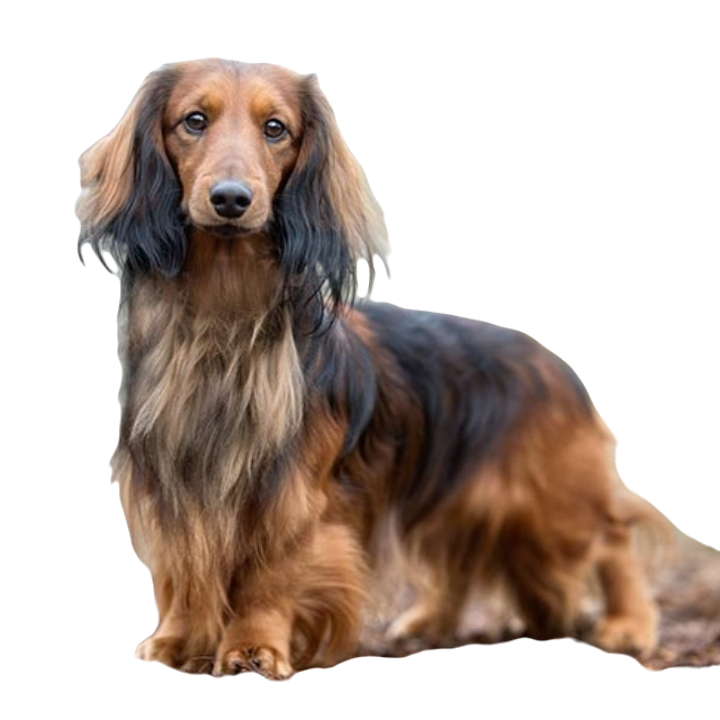Dog: (66, 58, 719, 679)
